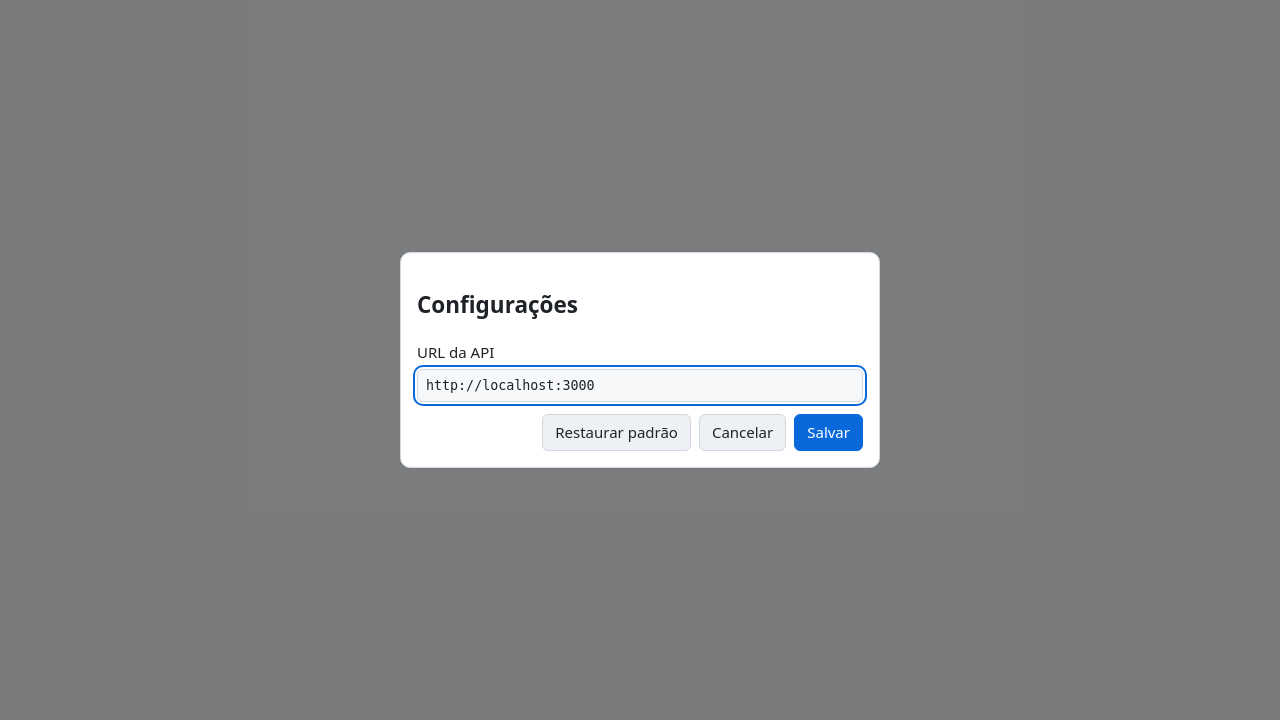
SettingsDialog (US4) › refuses localhost:3000 with an inline message
Replace the text in the field labelled "URL da API" with "localhost:3000" at (640, 386), box [417, 369, 863, 402]
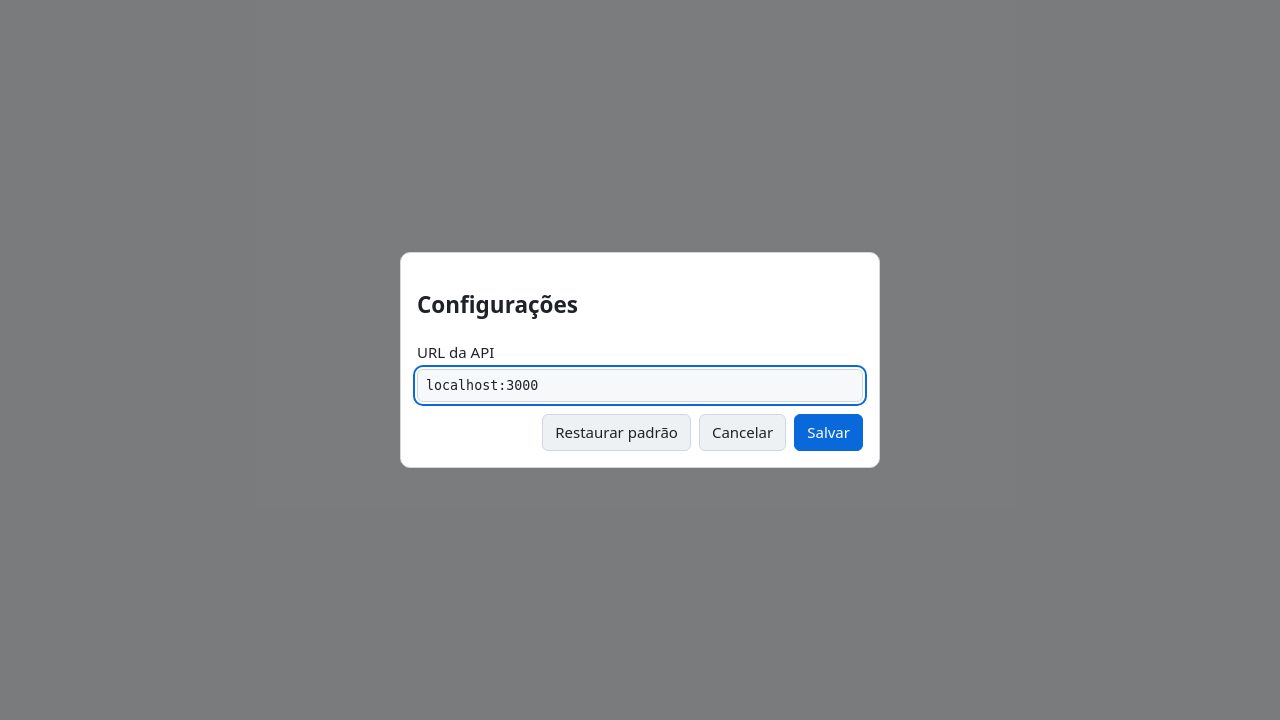
Click the button "Salvar".
click(829, 432)  # box [794, 414, 863, 450]
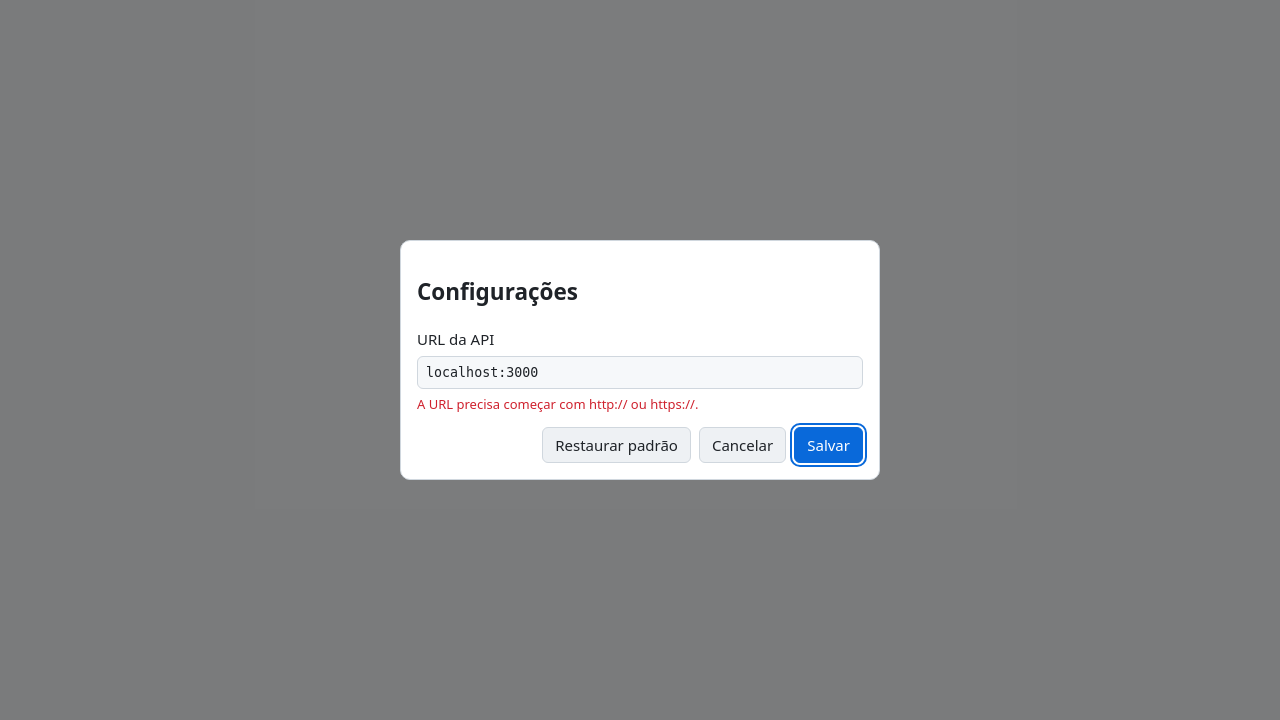
expect the message "A URL precisa começar com http:// ou https://." is shown: met, box [417, 395, 698, 413]
